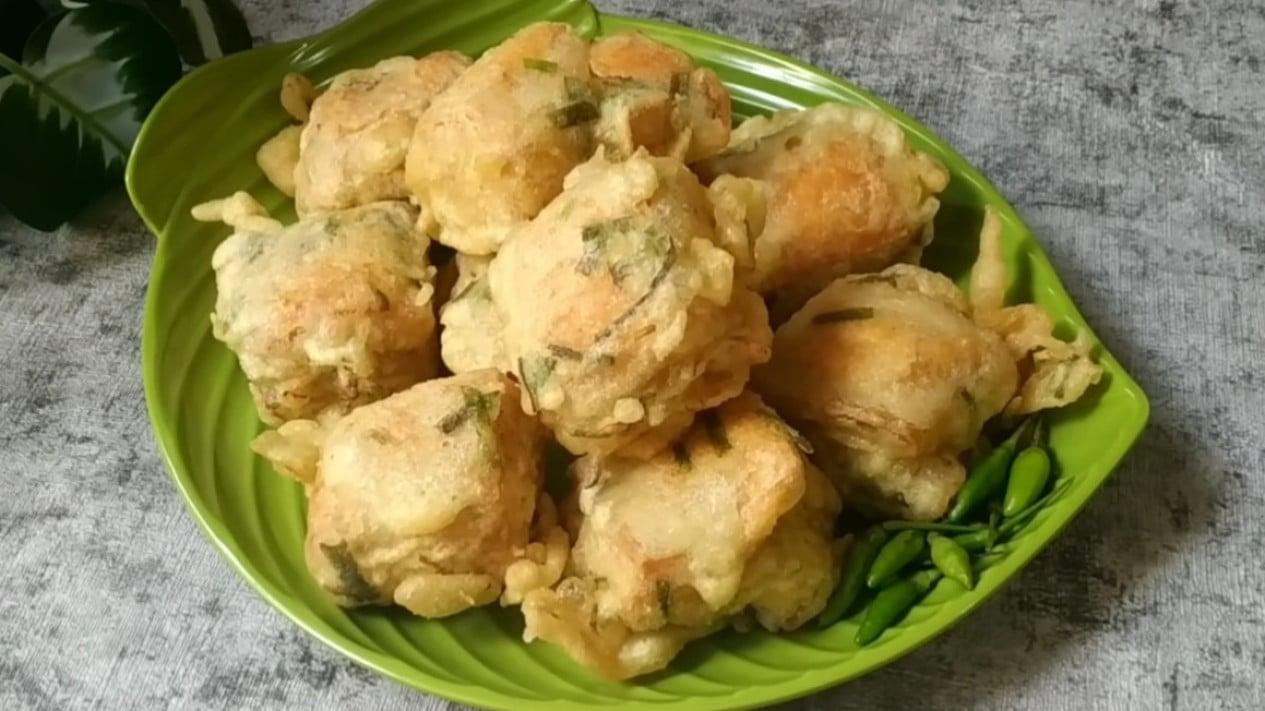kacang_legume: (512, 220, 695, 373), (808, 302, 999, 423), (333, 424, 485, 568), (607, 480, 759, 616), (745, 130, 910, 248), (235, 239, 394, 358), (460, 77, 547, 184), (332, 77, 406, 170)
